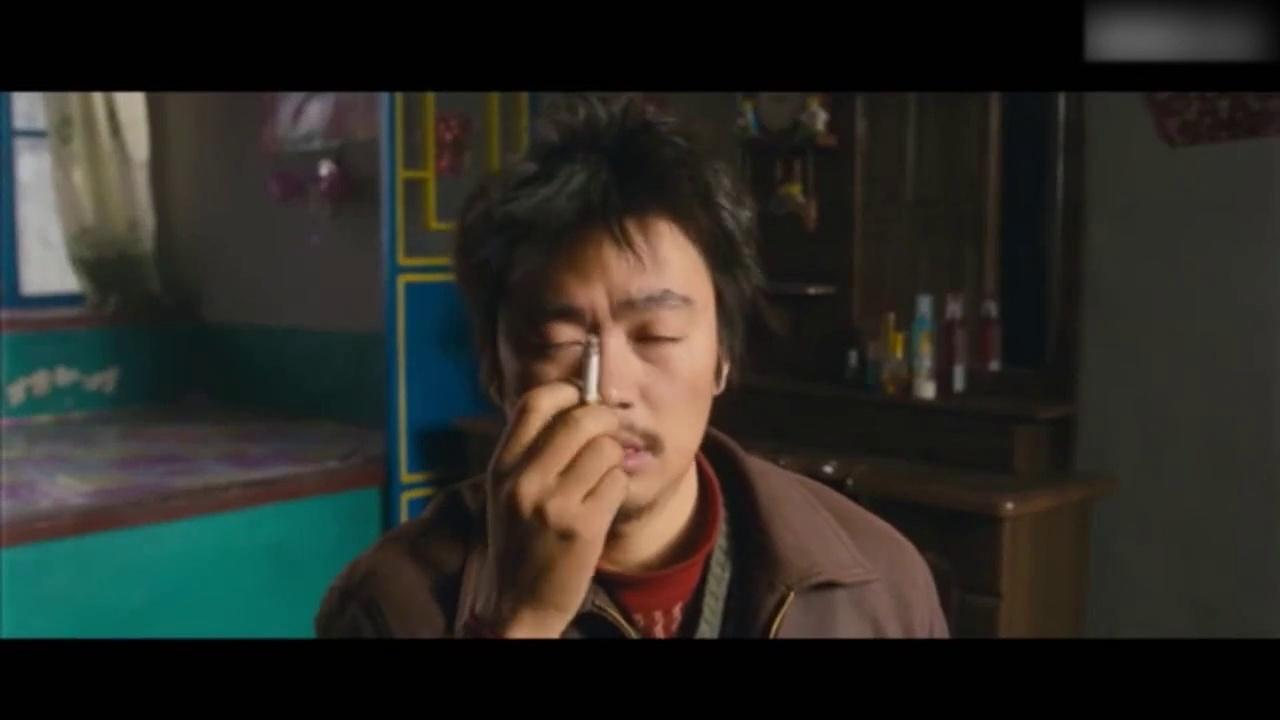smoke: (578, 334, 605, 405)
